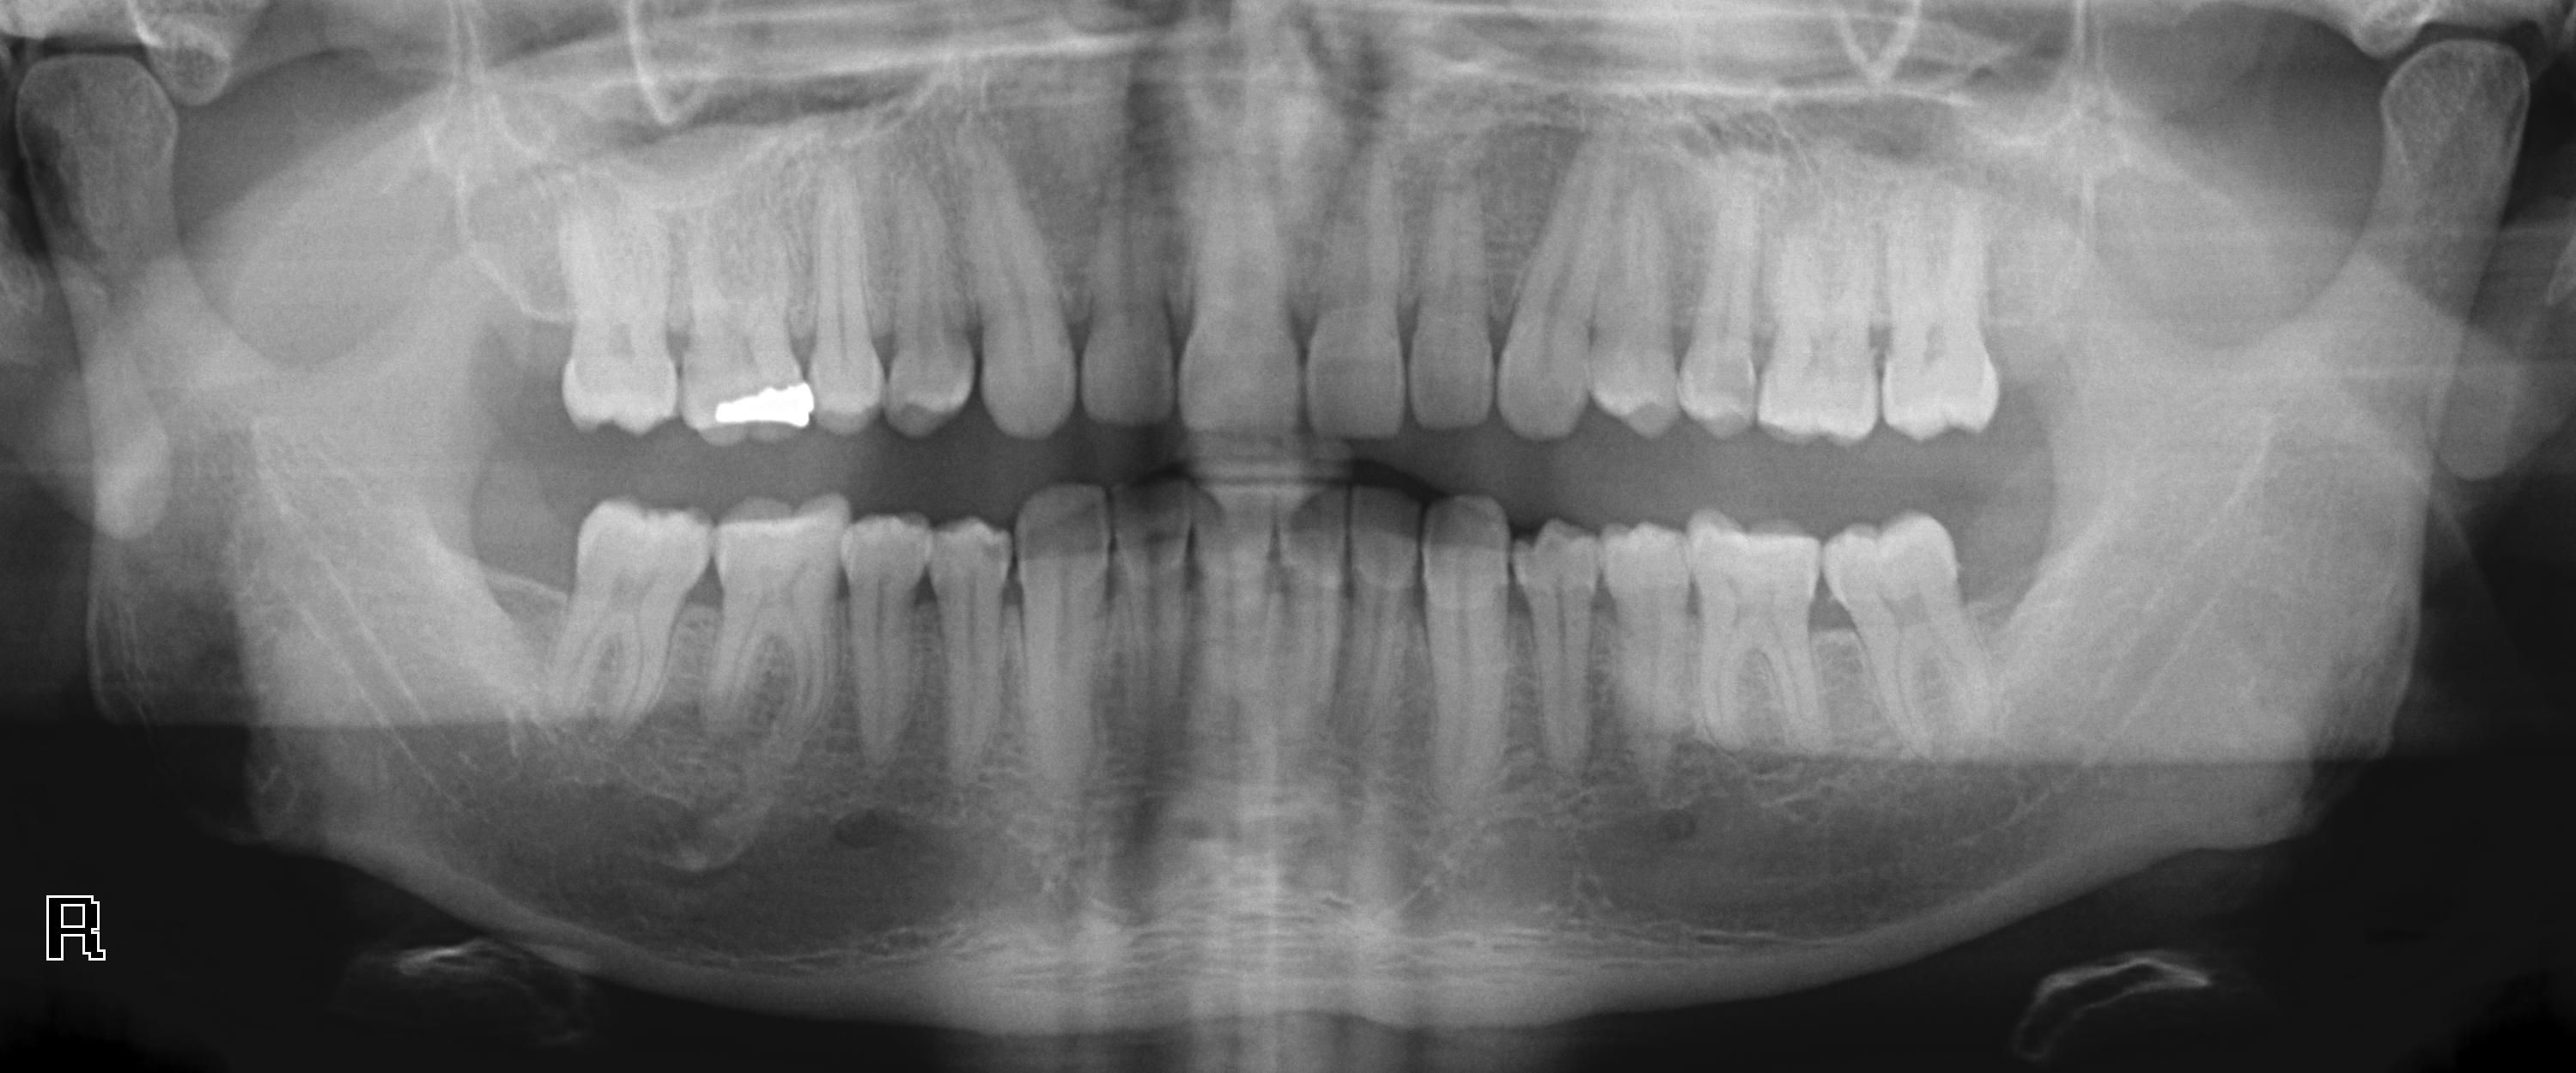Çürük: (705, 375, 828, 437)
